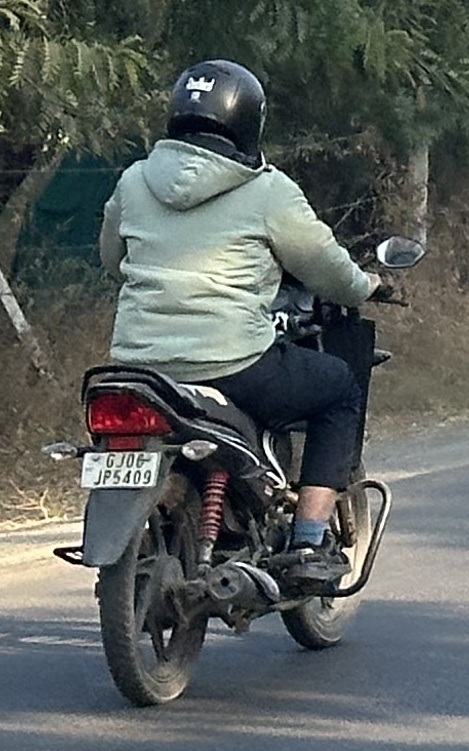BikeWithRider: (32, 50, 433, 714)
Helmet: (148, 51, 280, 176)
